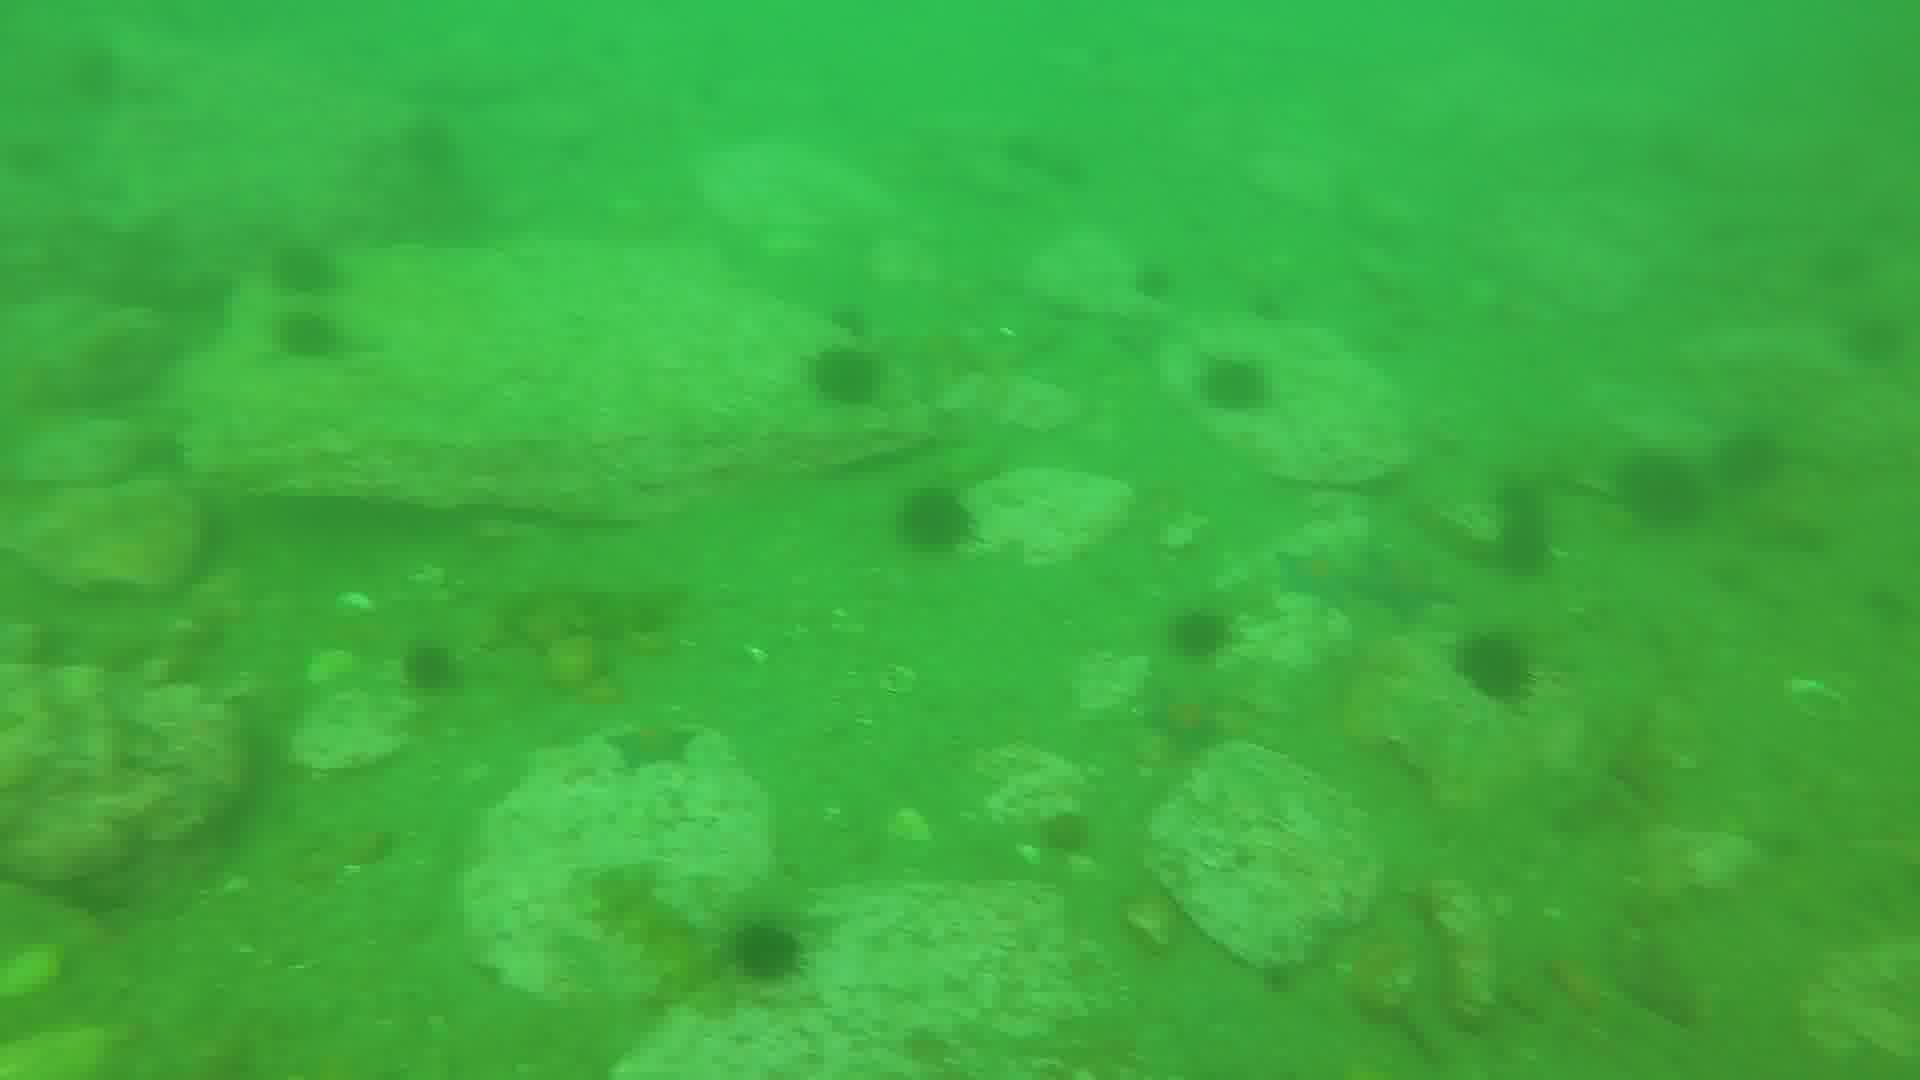echinus: (1464, 625, 1538, 708), (1619, 454, 1702, 525), (737, 916, 806, 985), (407, 640, 481, 702), (891, 491, 980, 542), (272, 307, 345, 363), (1199, 357, 1269, 415), (815, 345, 889, 398), (1726, 439, 1795, 489), (1499, 520, 1551, 578), (1176, 607, 1234, 658), (277, 244, 335, 290)
starfish: (1354, 546, 1455, 624), (615, 711, 708, 785), (1146, 696, 1229, 760), (1276, 543, 1356, 608)
